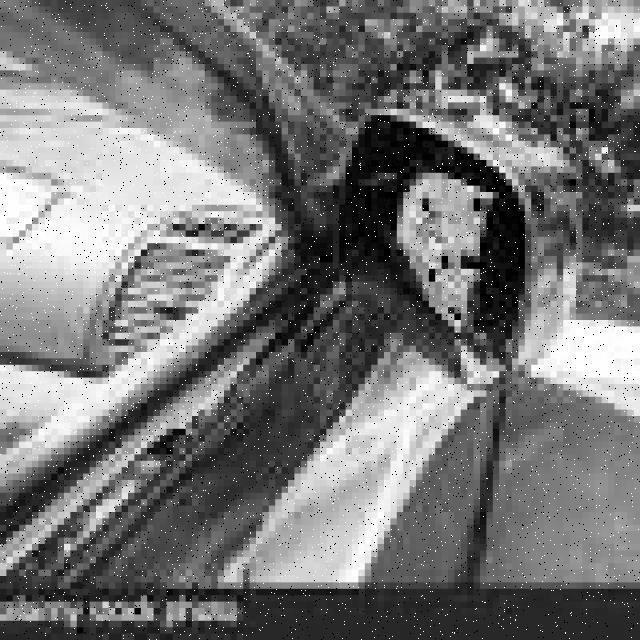Sidemirror-Damage: (328, 96, 597, 397)
